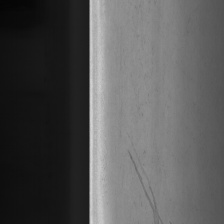water_spot: (125, 131, 166, 224)
